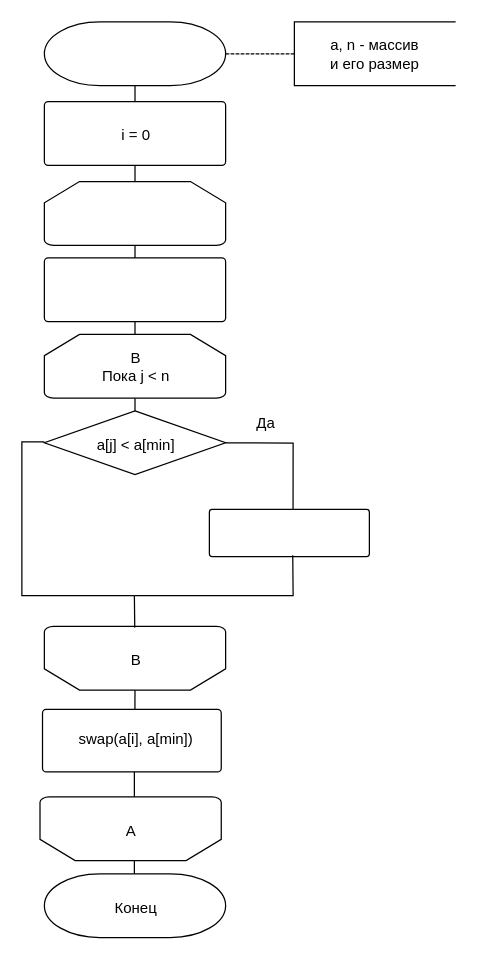
Some shapes in this 478 by 960 pixel diagram are drawn without their labels. The centre of each missing label's shape, as x and y in pixels:
"A Пока i < n" belongs at [134,212].
"j = i + 1 min = i" belongs at [134,289].
"min = j" belongs at [288,532].
"Начало" belongs at [134,53].
